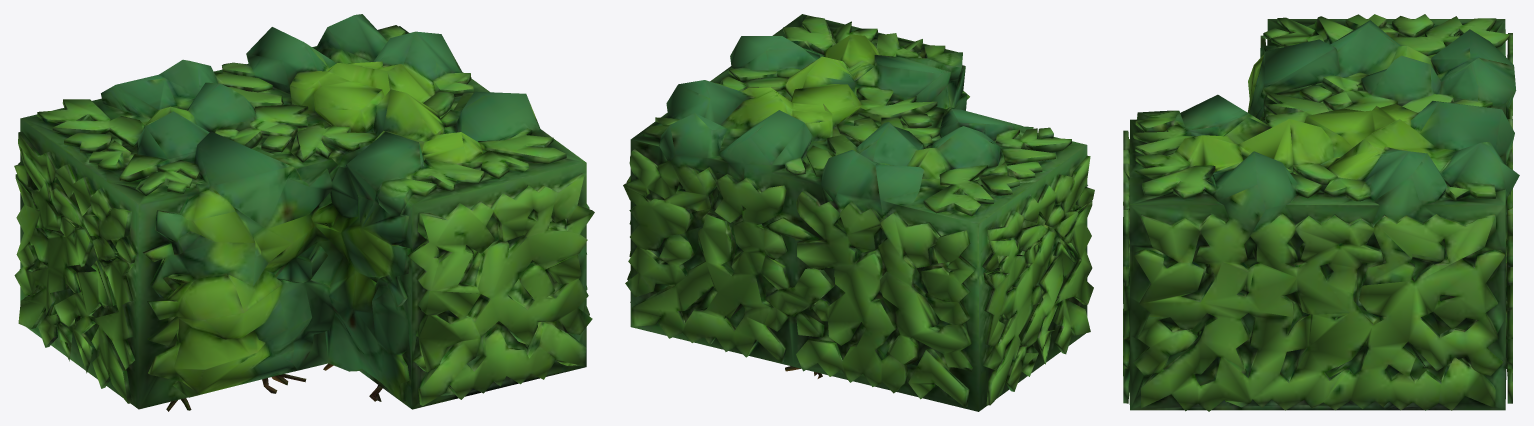
File: hedge-corner.glb
3 views of the same model, side by side, from view 1: azimuth 30°, elevation 25°; view 2: azimuth 150°, elevation 25°; view 3: azimuth 270°, elevation 25° (orthographic). The views are drawn at different scales.
Visible parts, largest first — view 1: node_0; view 2: node_0; view 3: node_0.
Boxes of the visible parts, bbox=[...] form: node_0: bbox=[14, 14, 594, 411]; node_0: bbox=[623, 14, 1094, 411]; node_0: bbox=[1123, 14, 1519, 411].
Bounding box in the file's own units: 2.49 × 1.58 × 2.14.
Materials: 1 (1 with a texture image).
